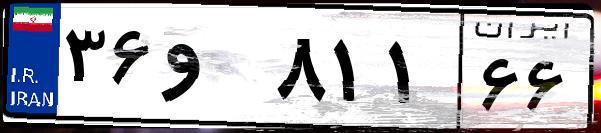1: (385, 28, 445, 110), (330, 28, 385, 110)
3: (57, 26, 110, 100)
6: (475, 38, 525, 113), (525, 38, 570, 115), (110, 28, 158, 98)
8: (270, 28, 330, 110)
و: (158, 20, 270, 120)
